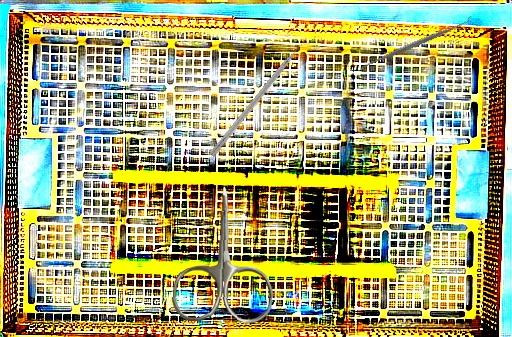Chopper: (209, 37, 314, 163)
Iris Scissors: (171, 185, 277, 324)
Spatula Surgical: (357, 13, 475, 74)
